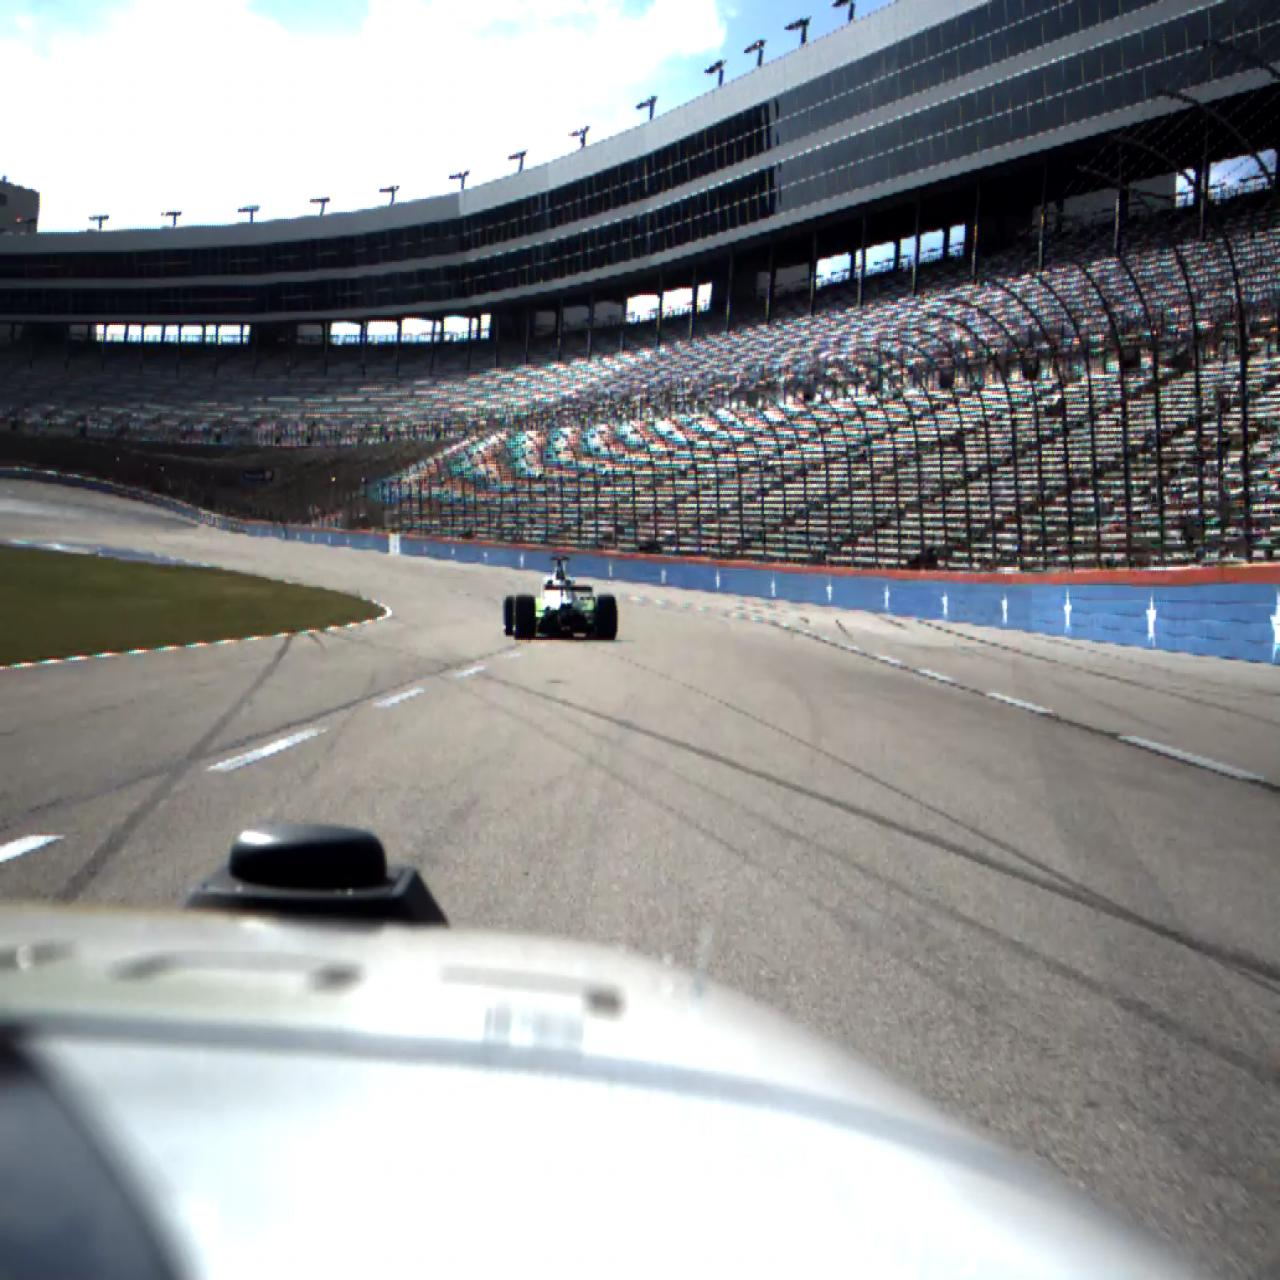AV: (503, 557, 618, 641)
Wheel: (595, 594, 618, 640), (516, 594, 536, 640), (504, 595, 517, 636)
